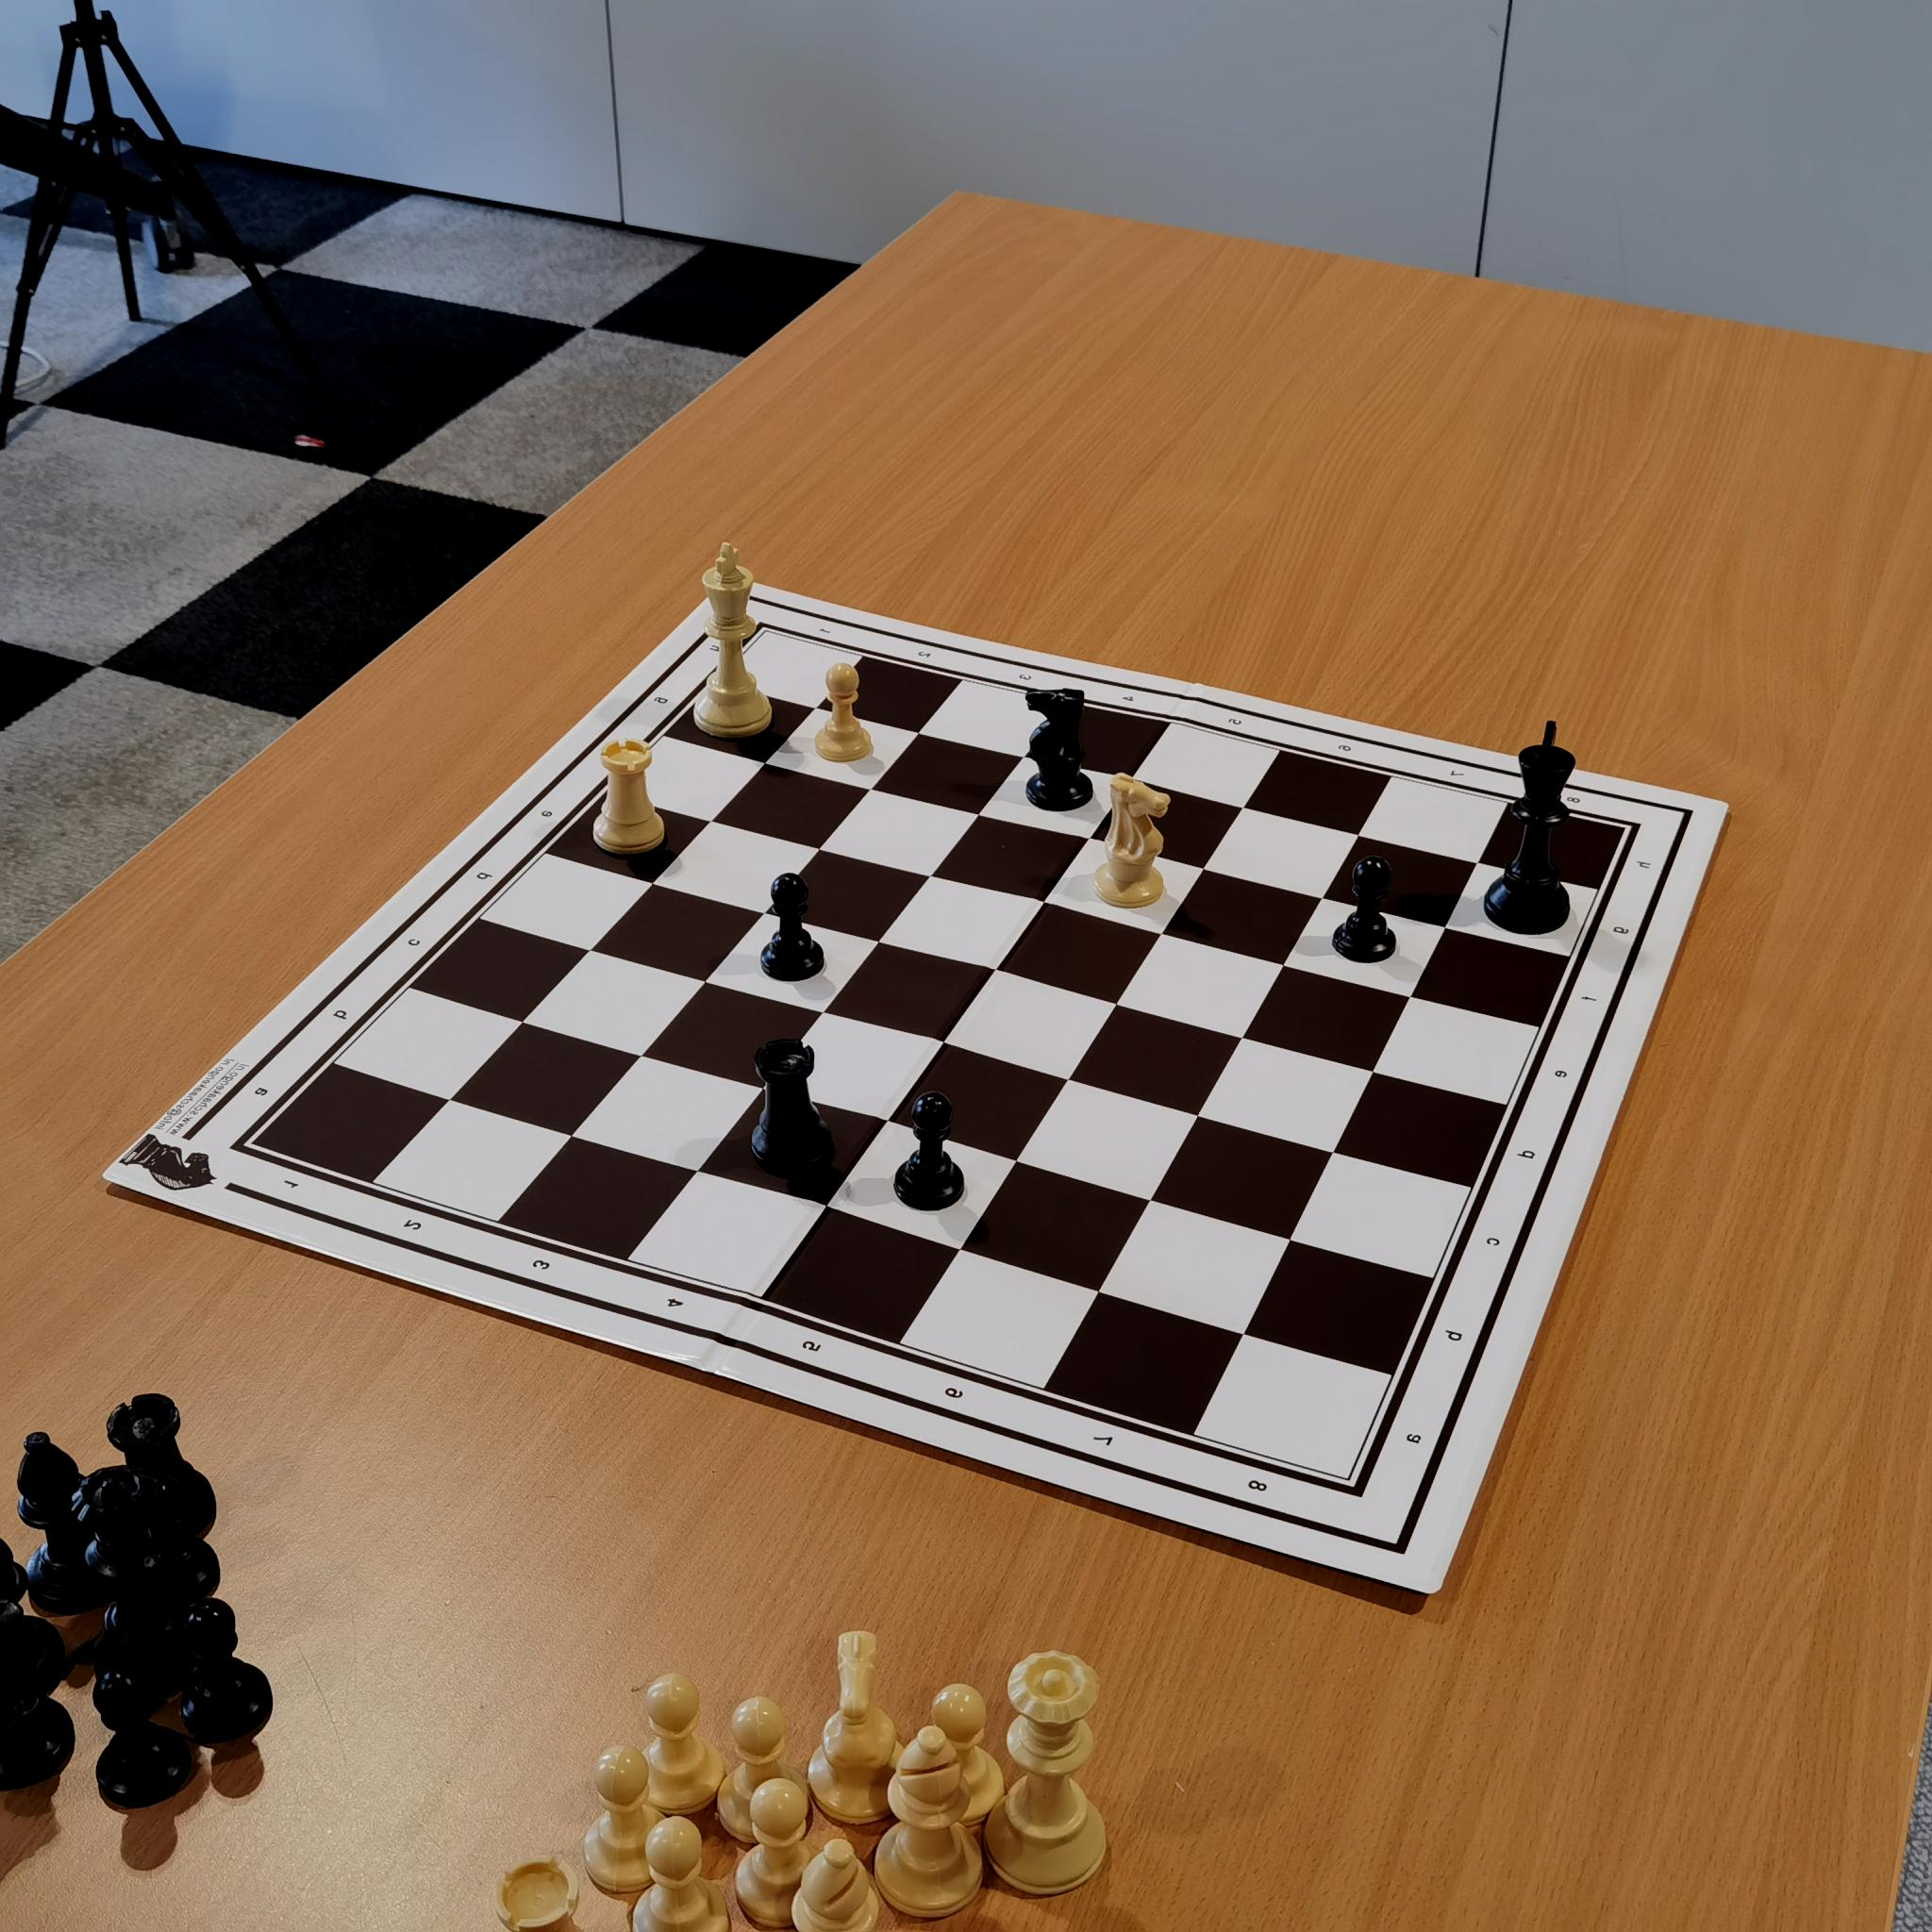corners: (1315, 1449, 1380, 1504), (226, 1118, 281, 1169), (1601, 805, 1649, 851), (740, 616, 775, 644)
eight: (1231, 1463, 1277, 1514), (1557, 782, 1587, 817)
one: (272, 1164, 315, 1205), (801, 617, 833, 646)
